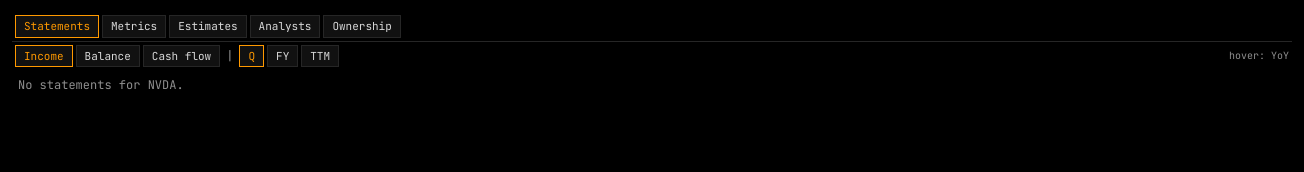
Test: FundamentalsWidget › shows empty states
Expected: the text "No statements for NVDA." is shown, left=18, top=77, right=184, bottom=93
Click the button "Analysts".
click(285, 26)  # box left=250, top=15, right=320, bottom=38
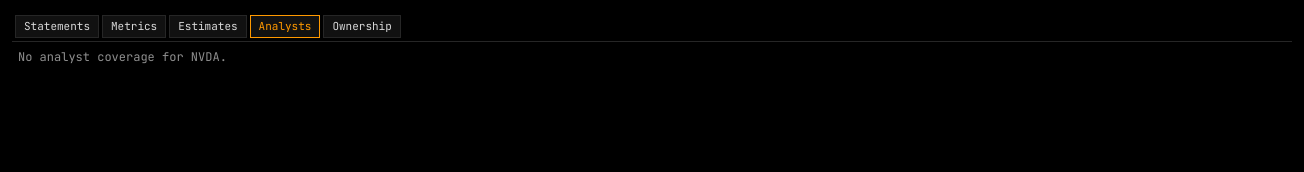
Result: the text "No analyst coverage for NVDA." is shown at left=18, top=48, right=227, bottom=64
Click the button "Ownership".
click(362, 26)  # box left=323, top=15, right=401, bottom=38
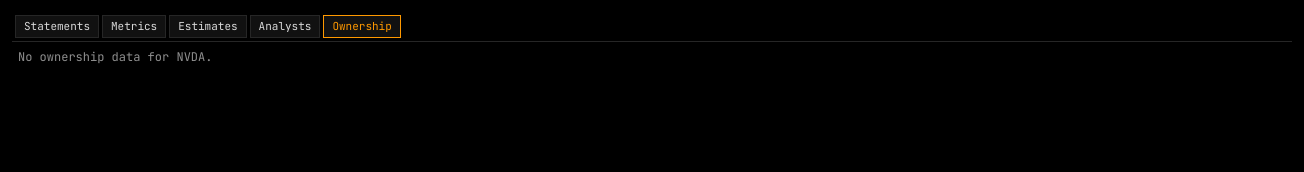
Result: the text "No ownership data for NVDA." is shown at left=18, top=48, right=212, bottom=64
